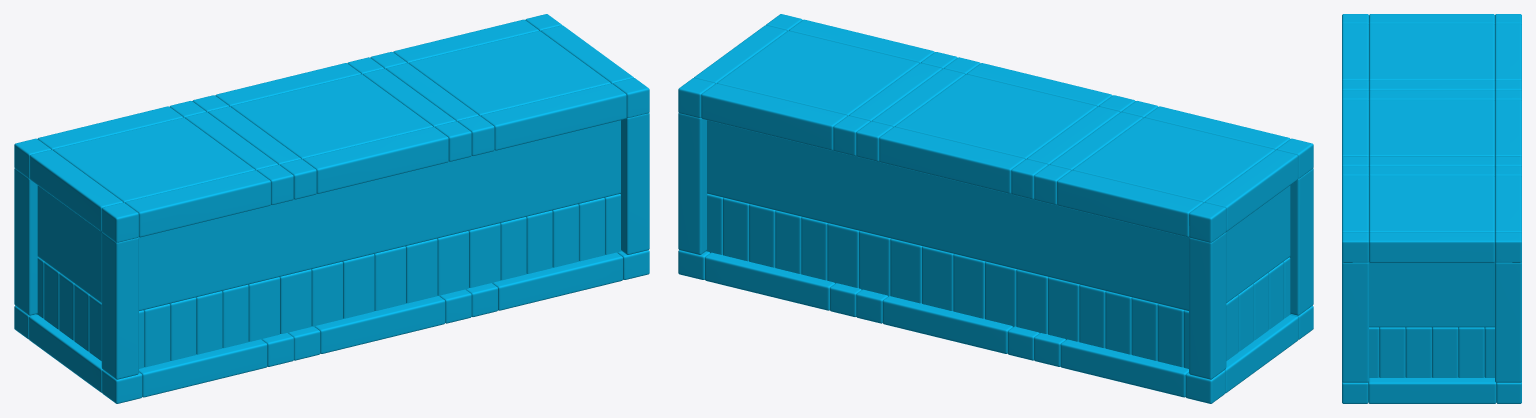
Rendered from SM_Wood_Body_05.fbx.
3 renders of one model, left to right at view 1: azimuth 30°, elevation 25°; view 2: azimuth 150°, elevation 25°; view 3: azimuth 270°, elevation 25°, orthographic. The views are drawn at different scales.
Parts seen in each view (by area): view 1: SM_Wood_Body_05; view 2: SM_Wood_Body_05; view 3: SM_Wood_Body_05.
Boxes of the visible parts, box(x1,y1,x2,y2) form: SM_Wood_Body_05: box(14, 14, 649, 403); SM_Wood_Body_05: box(678, 14, 1313, 403); SM_Wood_Body_05: box(1342, 14, 1521, 403).
Bounding box in the file's own units: 7.49 × 2.5 × 2.5.
